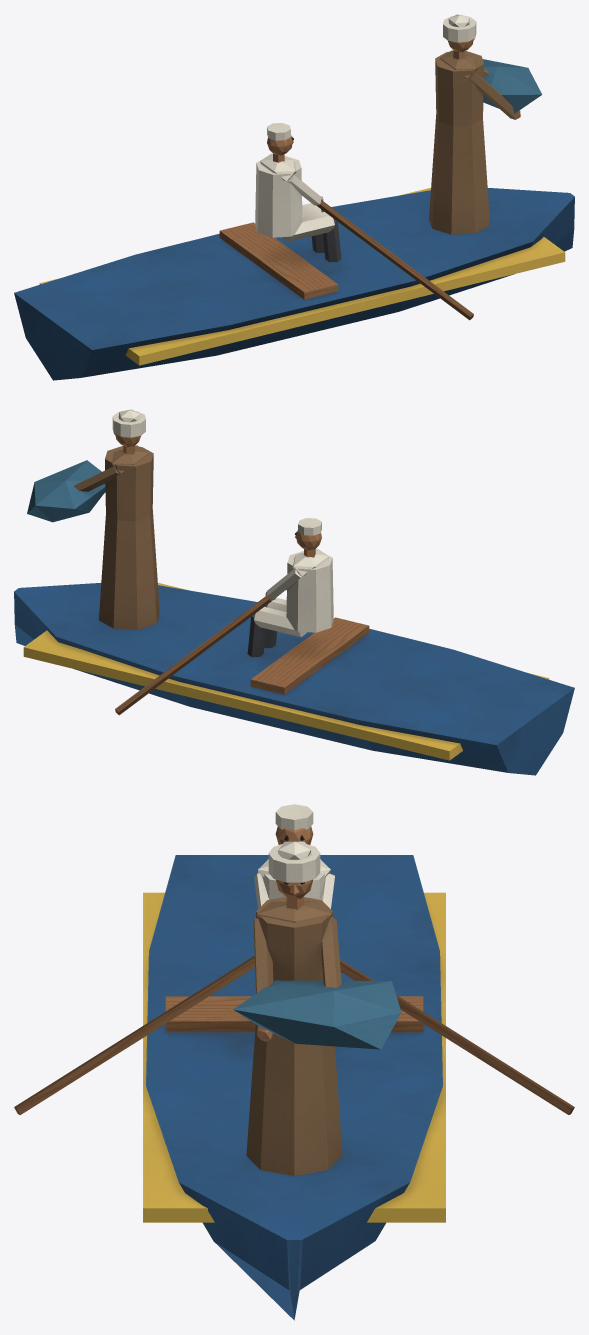
File: fiskebat_nil_tex.glb
3 renders of one model, top to bottom at view 1: azimuth 30°, elevation 25°; view 2: azimuth 150°, elevation 25°; view 3: azimuth 270°, elevation 25°, orthographic. The views are drawn at different scales.
Parts seen in each view (by area): view 1: fiskebat_nil; view 2: fiskebat_nil; view 3: fiskebat_nil.
Part boxes in pixels (box(x1,y1,x2,y2)): fiskebat_nil: box(14, 14, 574, 380); fiskebat_nil: box(14, 409, 574, 775); fiskebat_nil: box(14, 804, 574, 1320).
Bounding box in the file's own units: 4.6 × 2.33 × 2.83.
Materials: 11 (10 with a texture image).
